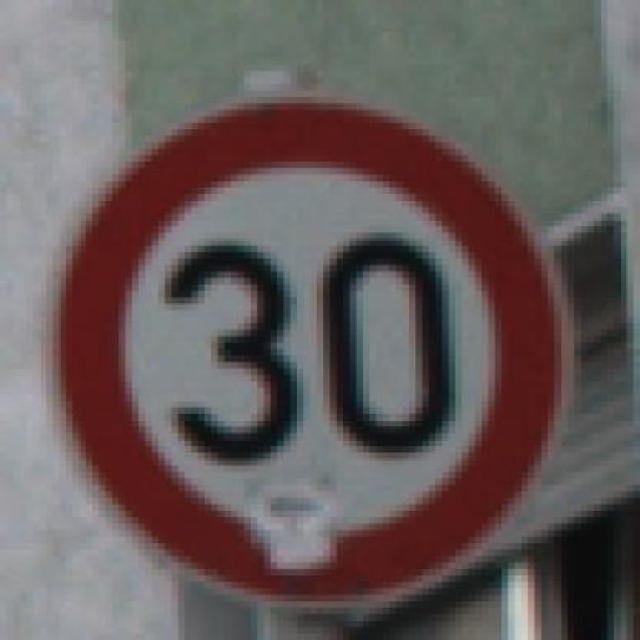Speed Limit 30 KMPh: (13, 58, 581, 608)
